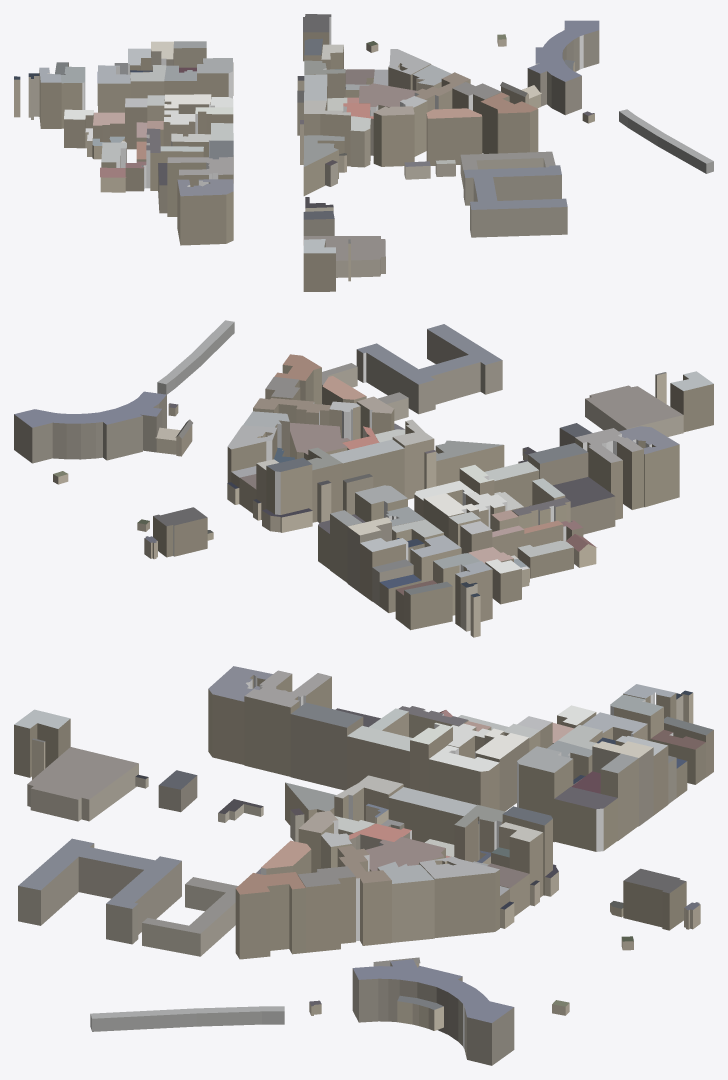
3 renders of one model, top to bottom at view 1: azimuth 30°, elevation 25°; view 2: azimuth 150°, elevation 25°; view 3: azimuth 270°, elevation 25°, orthographic. The views are drawn at different scales.
Visible parts, largest first — view 1: tuile; view 2: tuile; view 3: tuile.
Part boxes in pixels (bbox=[...]): tuile: bbox=[14, 14, 713, 291]; tuile: bbox=[14, 320, 713, 637]; tuile: bbox=[14, 666, 713, 1065].
Bounding box in the file's own units: 285 × 32.69 × 258.
